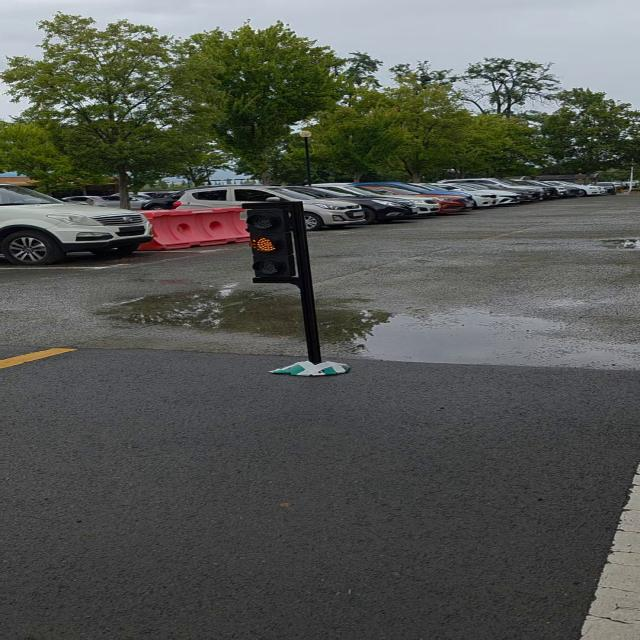yellow: (248, 206, 296, 286)
